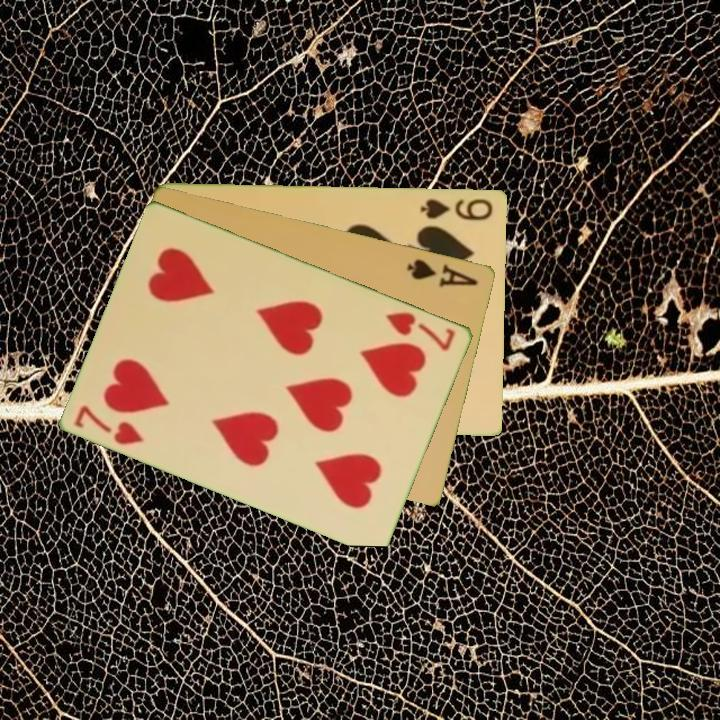7h: (71, 401, 147, 448), (382, 308, 459, 354)
9s: (417, 195, 496, 223)
As: (404, 255, 481, 290)
